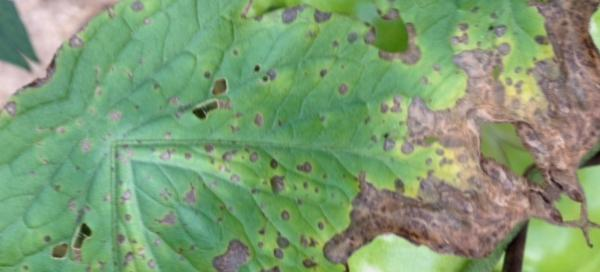Tomato Septoria leaf spot: (32, 0, 587, 272)
